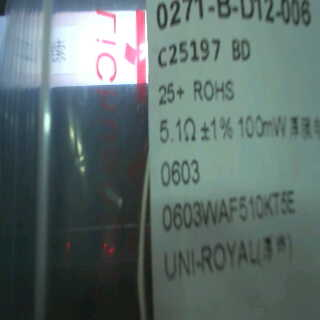5.1R: (154, 113, 201, 147)
